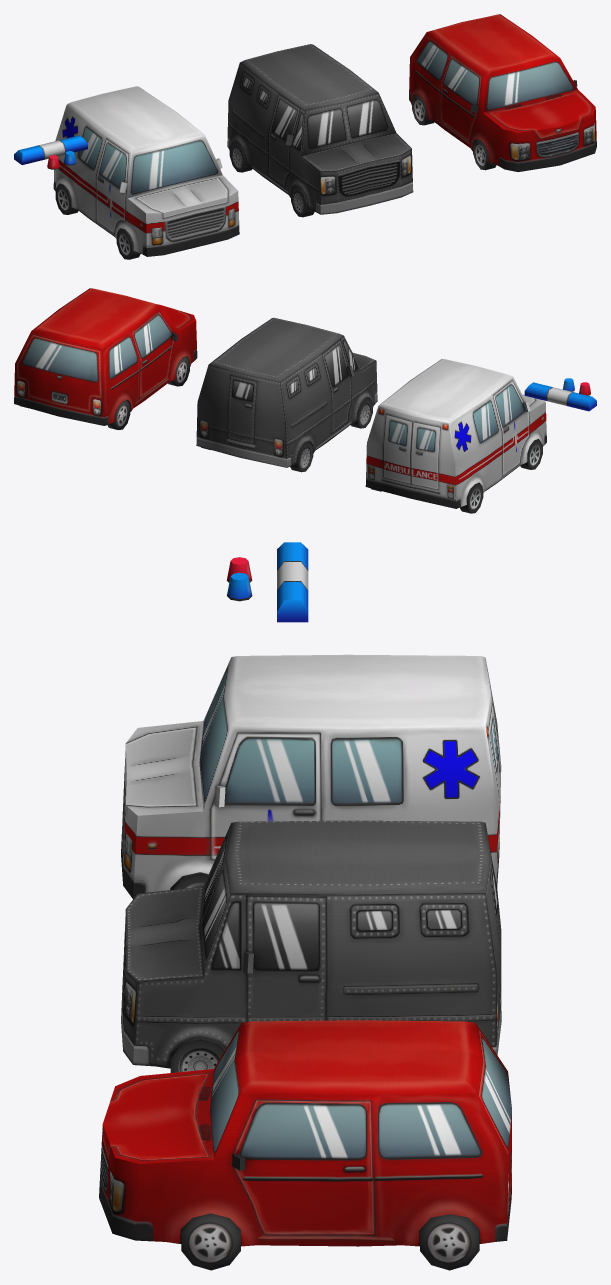
File: cars_1.0.FBX
3 renders of one model, top to bottom at view 1: azimuth 30°, elevation 25°; view 2: azimuth 150°, elevation 25°; view 3: azimuth 270°, elevation 25°, orthographic. The views are drawn at different scales.
Parts seen in each view (by area): view 1: car2, car3, car1, long, wheels3, wheels2, wheels1; view 2: car2, car3, car1, long, wheels3, wheels2, wheels1; view 3: car1, car2, car3, wheels1, long, wheels2.
Part boxes in pixels (bbox=[...]): car2: bbox=[227, 44, 413, 214]; car3: bbox=[53, 86, 239, 256]; car1: bbox=[409, 14, 596, 171]; long: bbox=[14, 135, 87, 164]; wheels3: bbox=[55, 184, 140, 259]; wheels2: bbox=[229, 141, 314, 217]; wheels1: bbox=[412, 94, 496, 170]; car2: bbox=[196, 317, 377, 467]; car3: bbox=[365, 359, 546, 508]; car1: bbox=[14, 288, 197, 425]; long: bbox=[524, 382, 596, 411]; wheels3: bbox=[371, 439, 542, 513]; wheels2: bbox=[201, 398, 372, 472]; wheels1: bbox=[20, 356, 189, 429]; car1: bbox=[99, 1020, 511, 1246]; car2: bbox=[121, 820, 501, 1068]; car3: bbox=[121, 654, 501, 898]; wheels1: bbox=[181, 1213, 479, 1270]; long: bbox=[277, 542, 308, 622]; wheels2: bbox=[170, 1038, 225, 1072].
Size of the model in its own units: 98.37 by 18.9 by 33.06.
